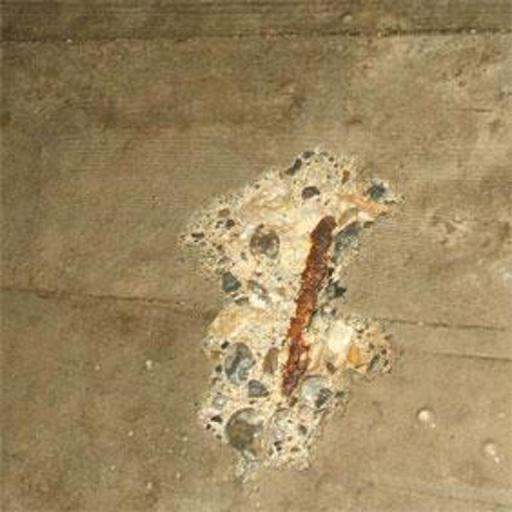spalling: (178, 139, 406, 480)
